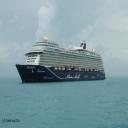cruises: (16, 36, 109, 85)
